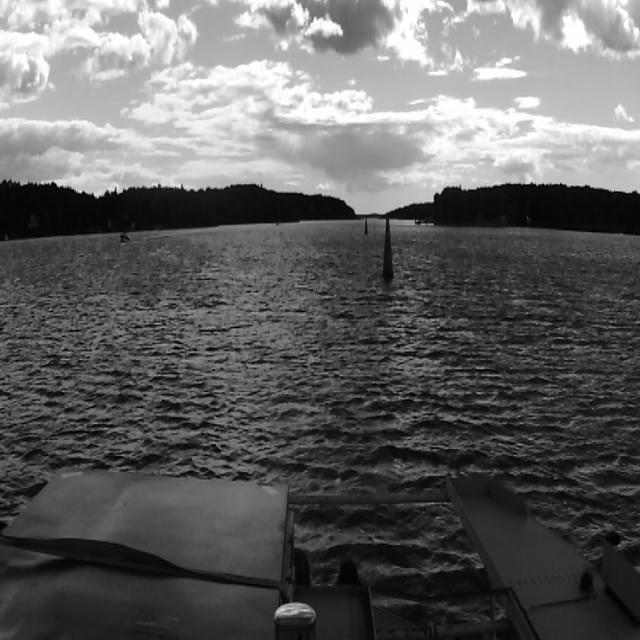buoy: (380, 207, 394, 285), (363, 215, 369, 237), (372, 220, 376, 230)
ship: (118, 230, 132, 246)
